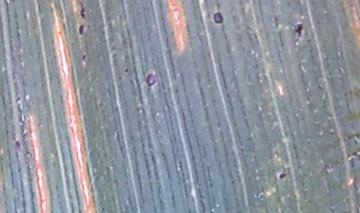tarspot: (290, 22, 304, 38), (144, 71, 156, 88), (212, 11, 224, 25), (79, 1, 86, 19), (77, 23, 85, 36), (278, 171, 288, 181), (13, 139, 22, 148), (258, 192, 266, 202), (81, 52, 87, 63), (123, 67, 129, 74), (239, 146, 245, 153), (304, 38, 312, 43)
